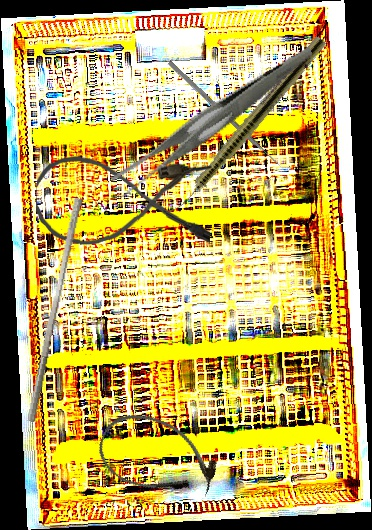Cannula: (34, 154, 213, 250), (90, 402, 226, 512)
Dressing Forceps: (92, 47, 336, 199)
Handpiece: (163, 32, 329, 224)
Pusher: (167, 60, 289, 175), (26, 196, 84, 424)
